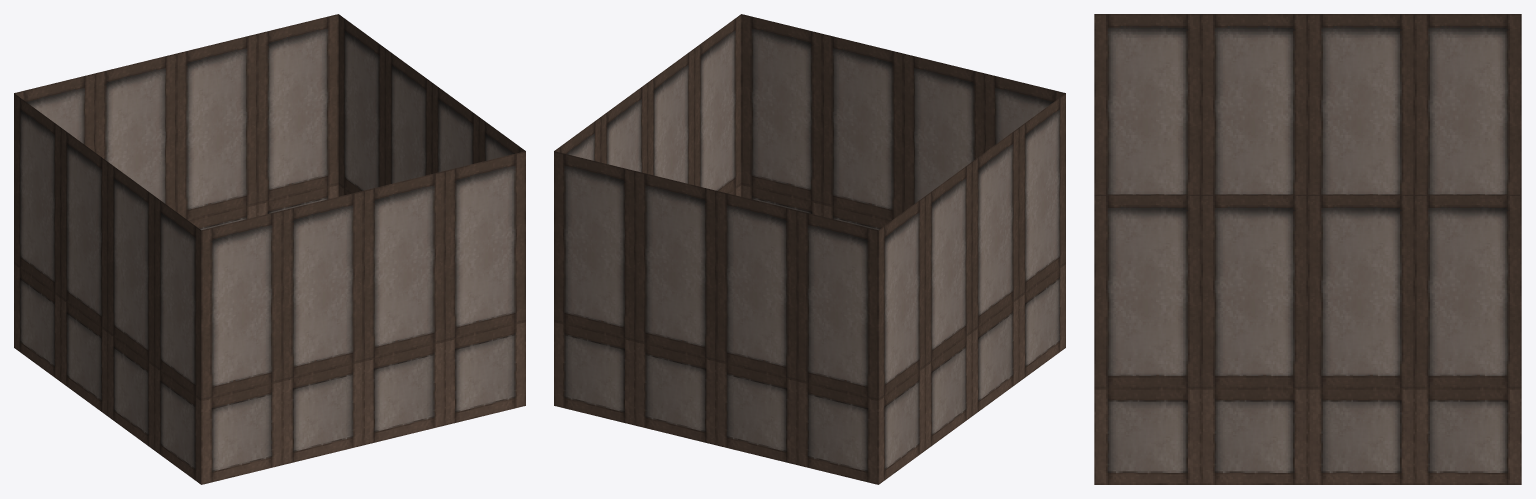
File: shell_plaster.glb
The picture shows the model from 3 angles, left to right: view 1: azimuth 30°, elevation 25°; view 2: azimuth 150°, elevation 25°; view 3: azimuth 270°, elevation 25°; orthographic projection. The views are drawn at different scales.
Visible parts, largest first — view 1: plaster_wall; view 2: plaster_wall; view 3: plaster_wall.
Part boxes in pixels (bbox=[...]): plaster_wall: bbox=[14, 14, 525, 484]; plaster_wall: bbox=[554, 14, 1065, 484]; plaster_wall: bbox=[1094, 14, 1521, 484].
Bounding box in the file's own units: 4 × 3 × 4.
Materials: 1 (1 with a texture image).
